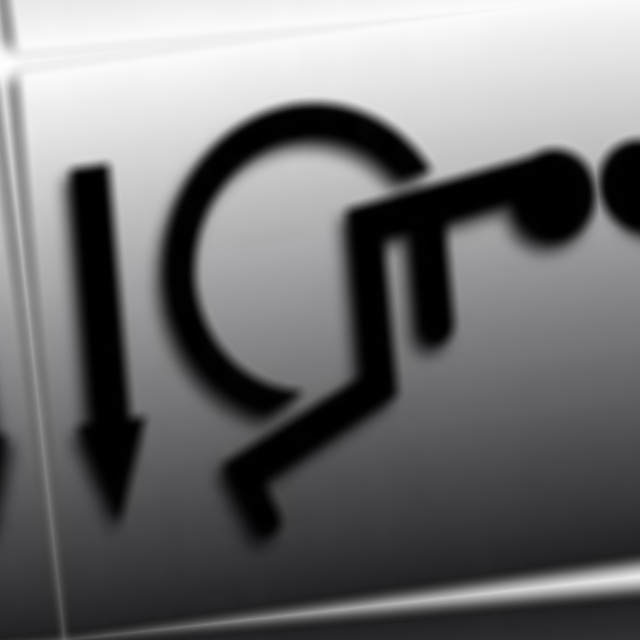ISA: (130, 60, 632, 567), (585, 10, 640, 516), (194, 636, 640, 640)
